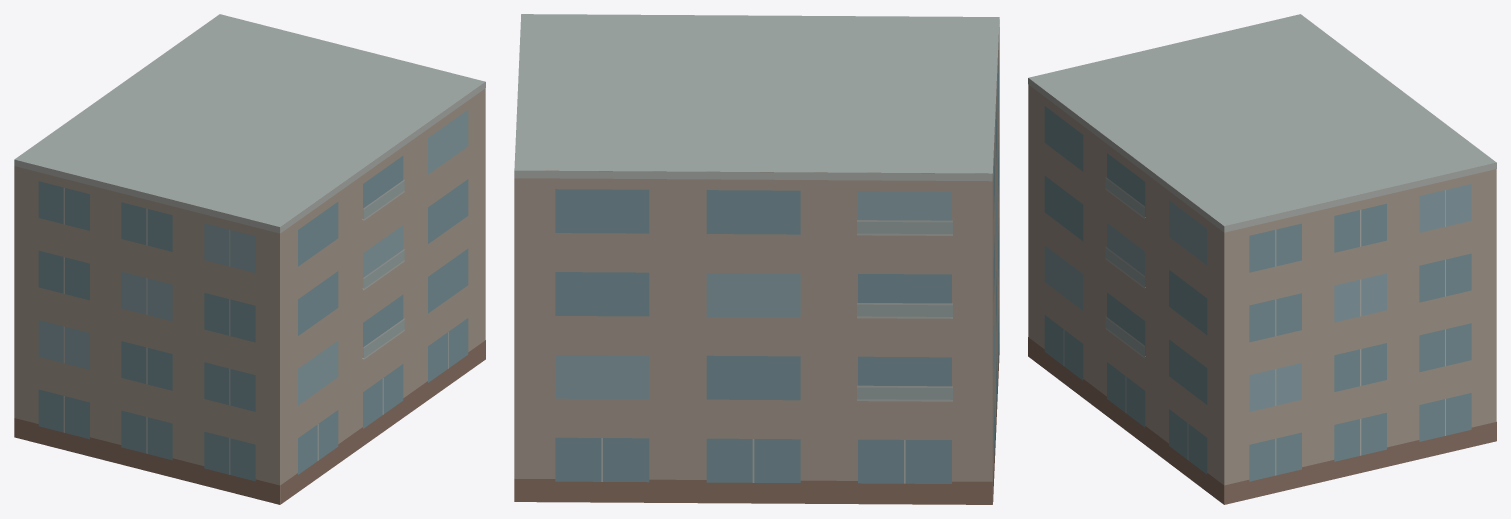
File: survey-upis-32694477.glb
3 renders of one model, left to right at view 1: azimuth 30°, elevation 25°; view 2: azimuth 150°, elevation 25°; view 3: azimuth 270°, elevation 25°, orthographic. The views are drawn at different scales.
Parts seen in each view (by area): view 1: survey-upis-32694477.tmp; view 2: survey-upis-32694477.tmp; view 3: survey-upis-32694477.tmp.
Boxes of the visible parts, <box> form: survey-upis-32694477.tmp: <box>14,14,485,504</box>; survey-upis-32694477.tmp: <box>514,14,999,504</box>; survey-upis-32694477.tmp: <box>1028,14,1496,504</box>.
Bounding box in the file's own units: 17.16 × 10.5 × 16.01.
